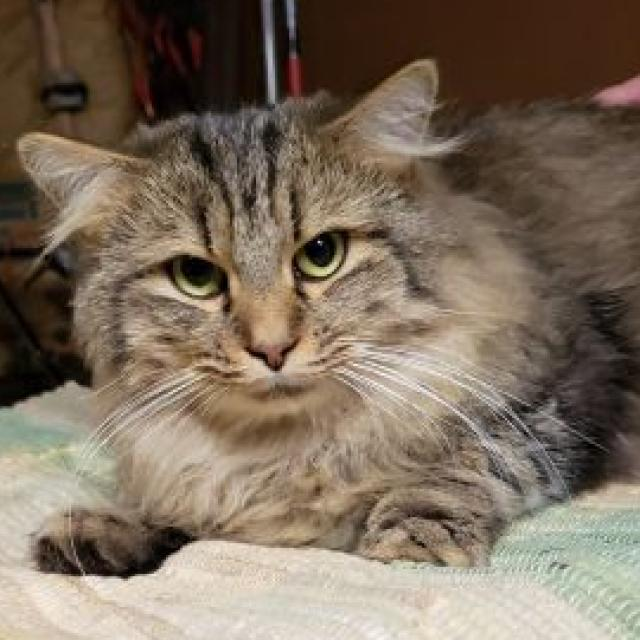Maine Coon: (12, 54, 640, 579)
